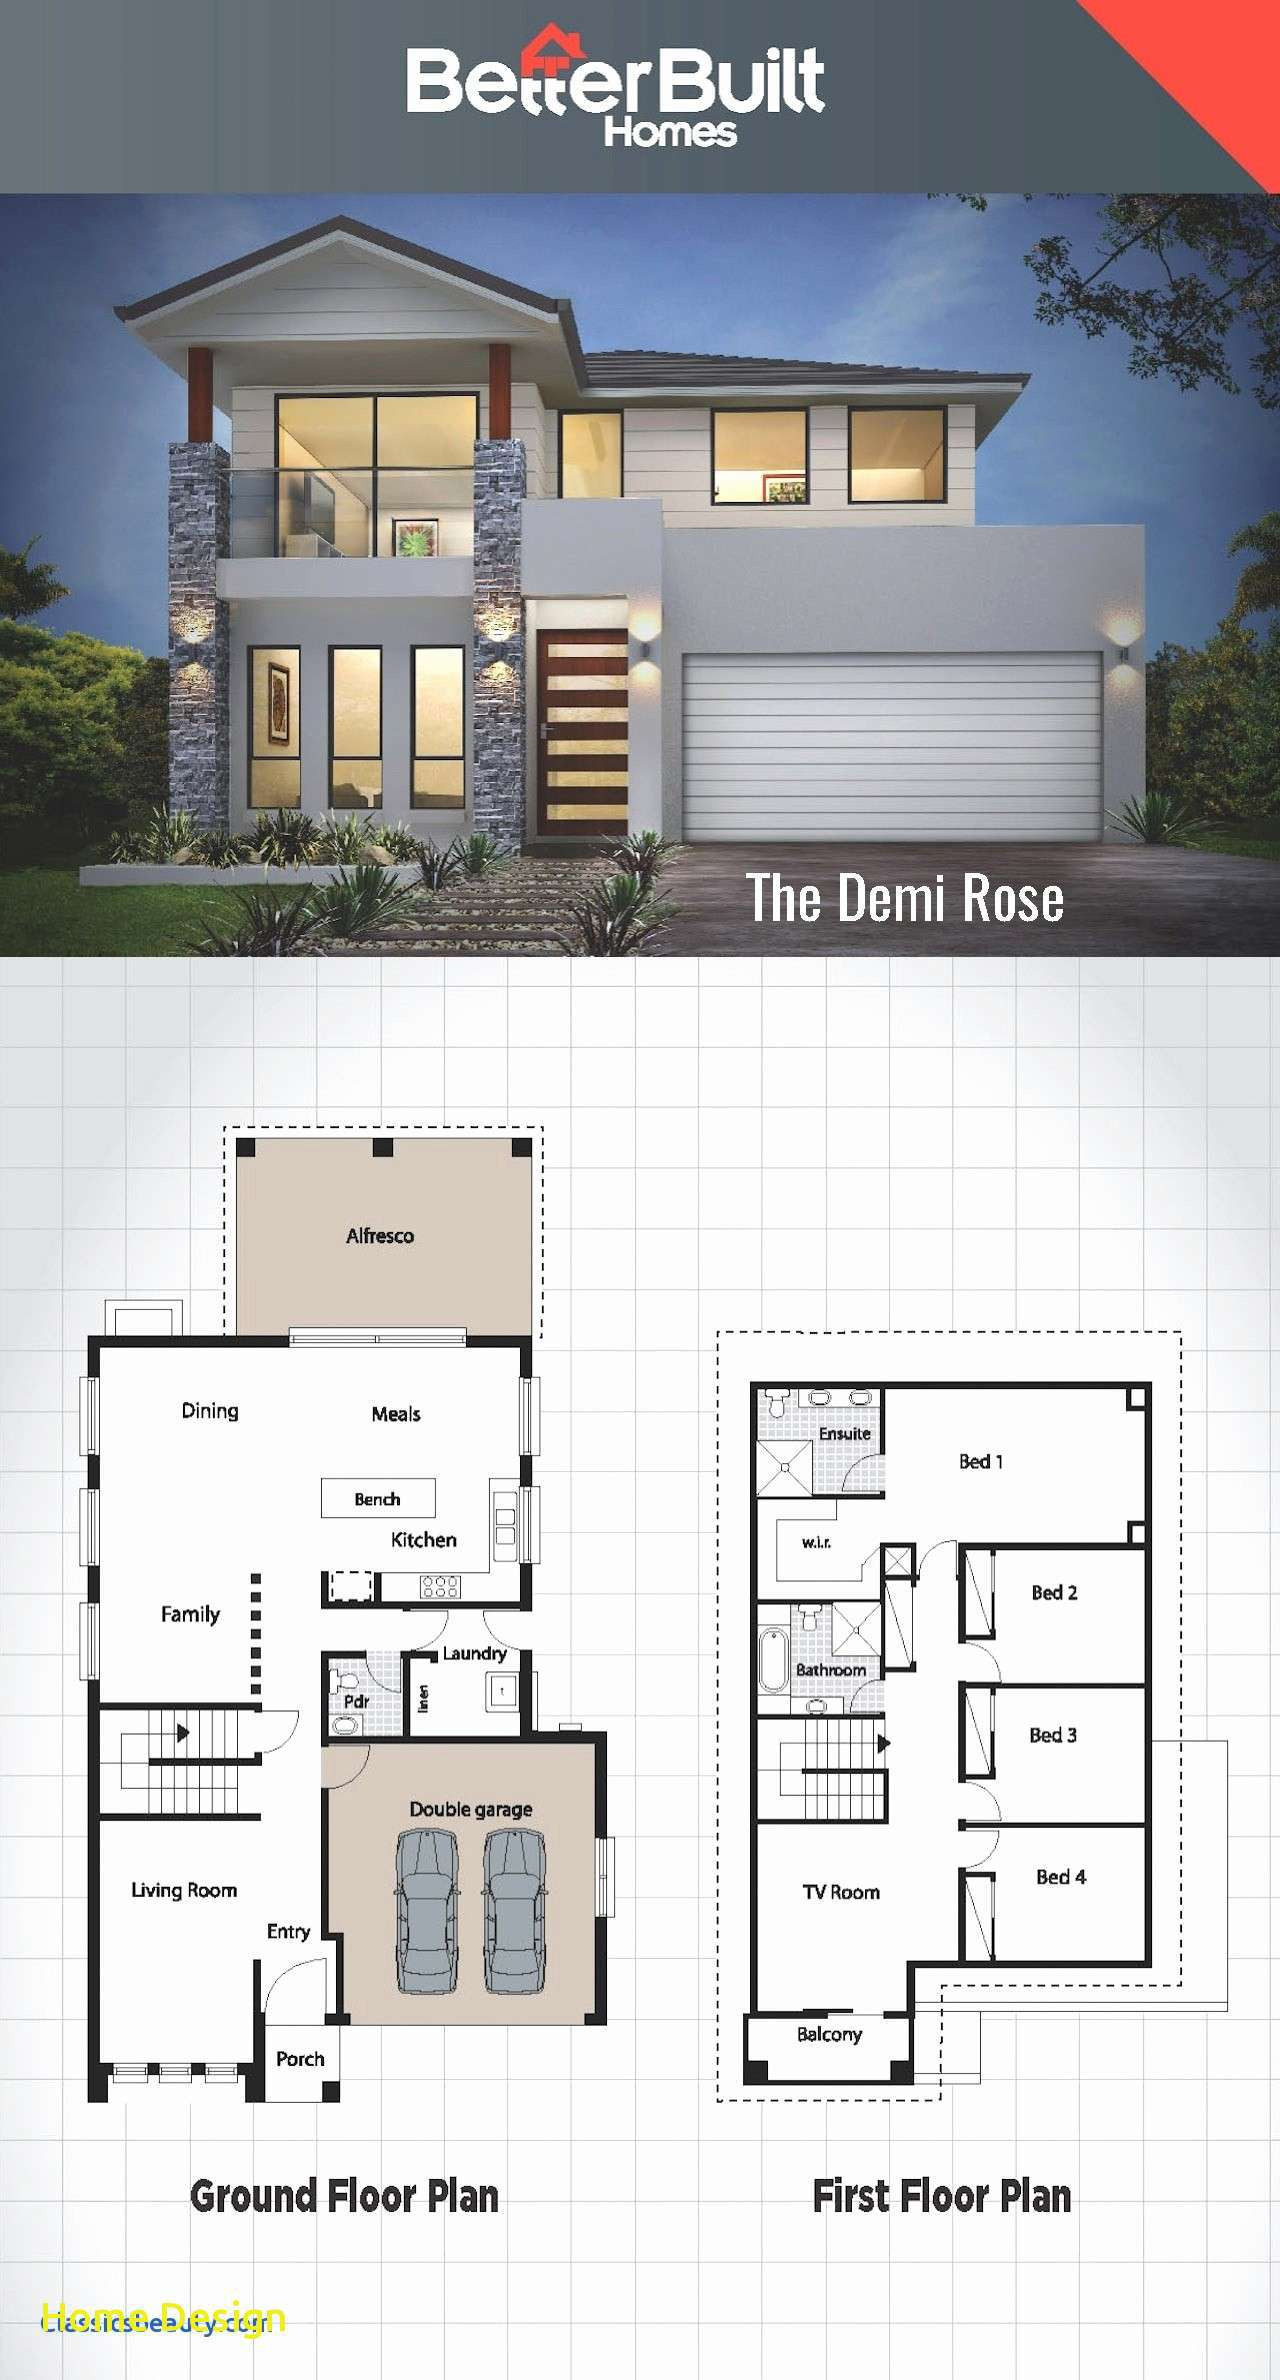window: (285, 1326, 470, 1355), (515, 1374, 545, 1460), (515, 1485, 545, 1567), (593, 1835, 620, 1920), (77, 1374, 102, 1460), (77, 1598, 102, 1683), (77, 1485, 102, 1570), (110, 2062, 150, 2087), (202, 2062, 240, 2085), (156, 2062, 194, 2085)
